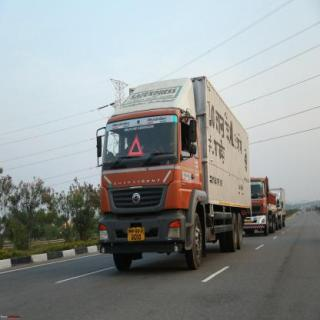Normal_vehicle: (91, 70, 254, 271)
